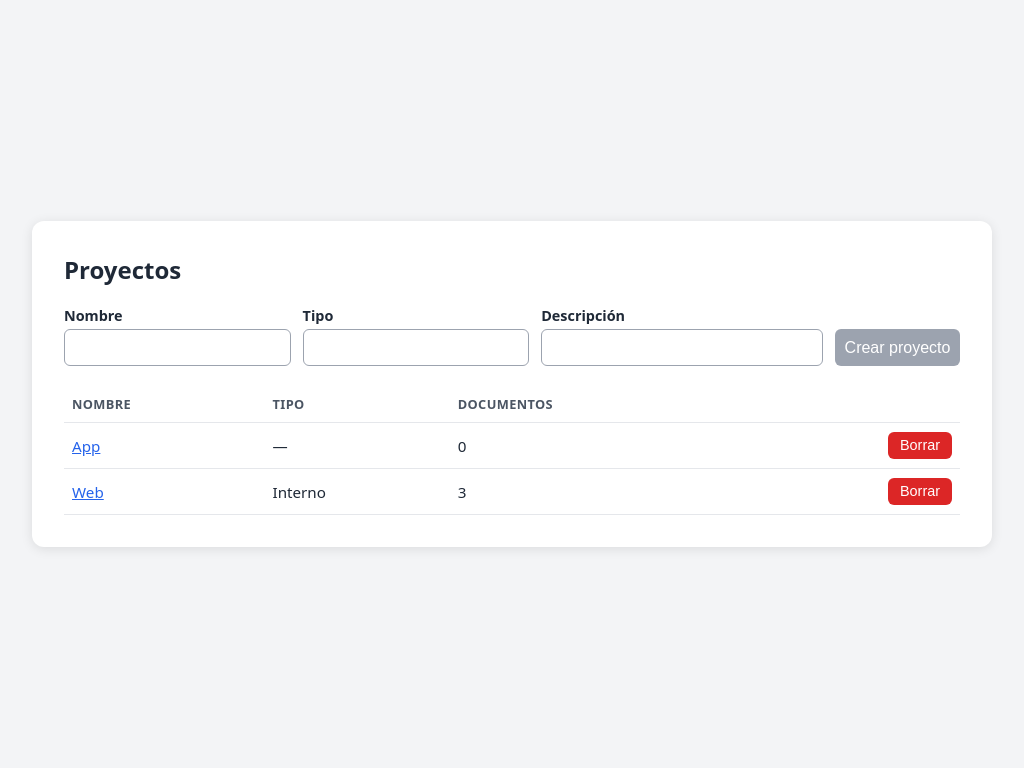
Test case: Proyectos (listado) › cancelar el aviso no borra nada
Click the button "Borrar" in the row of "Web".
click(920, 491)  # box x1=888 y1=478 x2=952 y2=505
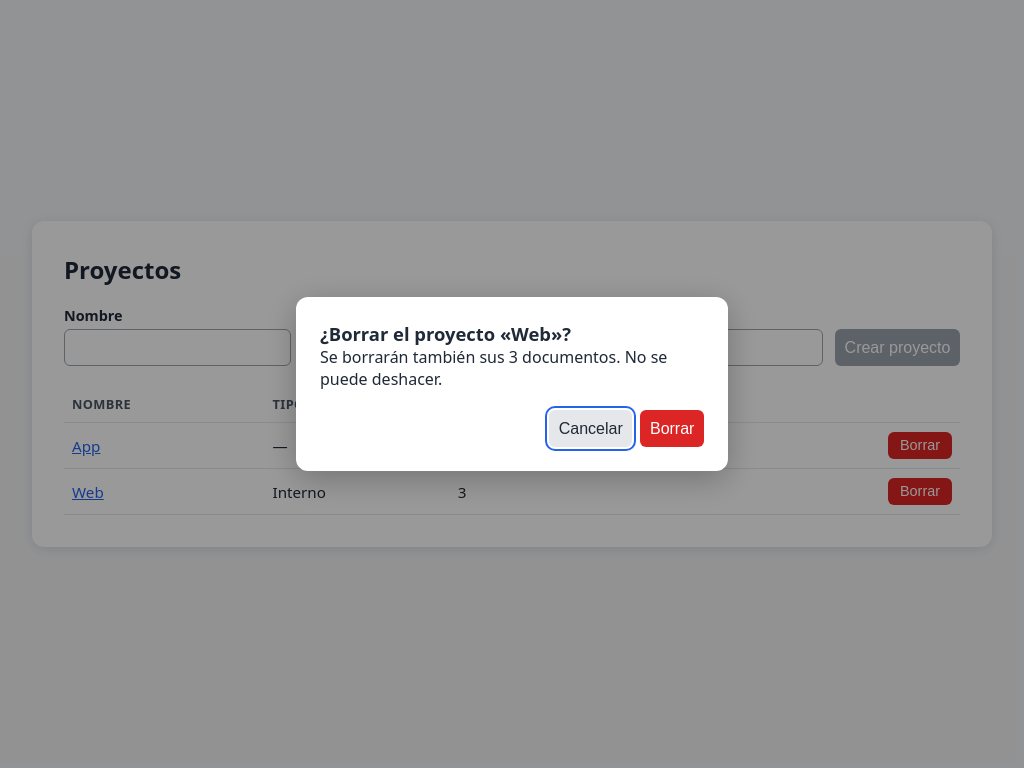
Click the button "Cancelar".
click(591, 428)  # box x1=549 y1=410 x2=632 y2=447
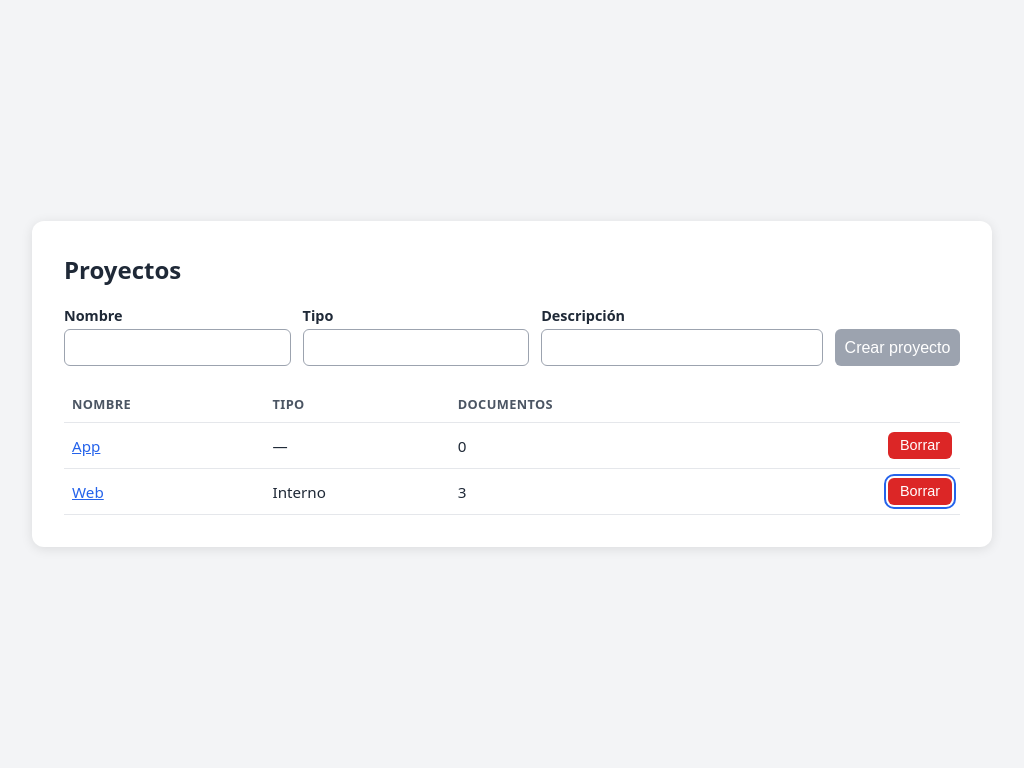
Expected: the dialog is gone
